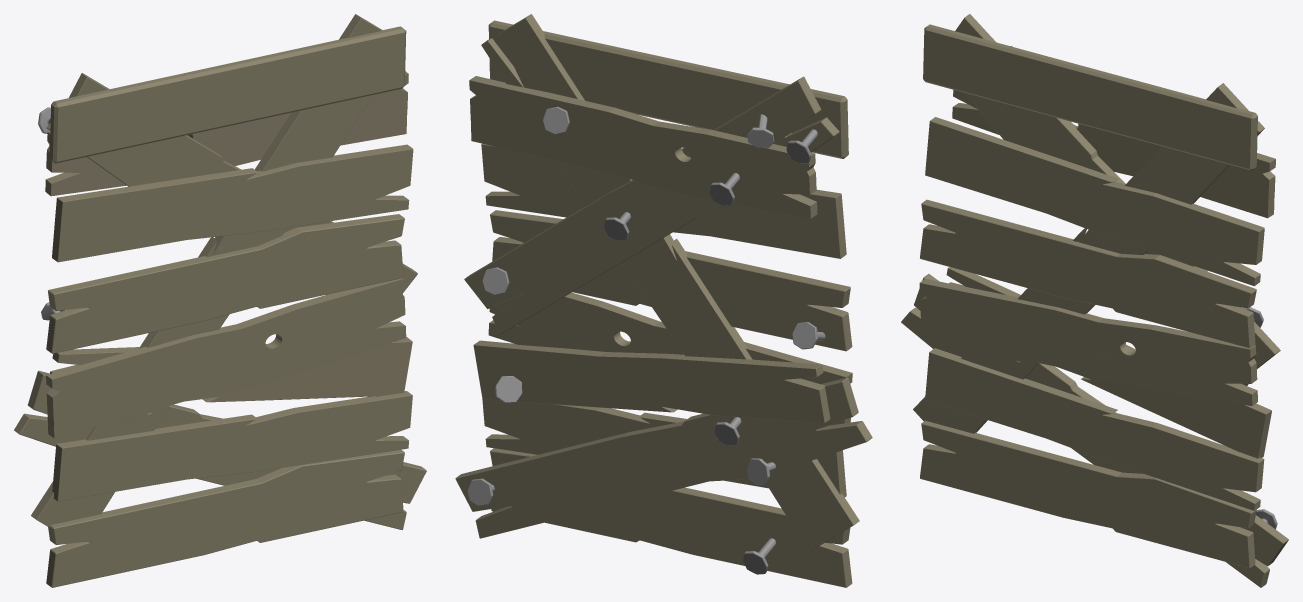
Rendered from PlanksUngrouped.fbx.
3 renders of one model, left to right at view 1: azimuth 30°, elevation 25°; view 2: azimuth 150°, elevation 25°; view 3: azimuth 330°, elevation 25°, orthographic. The views are drawn at different scales.
Parts seen in each view (by area): view 1: polySurface8, polySurface19, polySurface27, polySurface6, polySurface7, polySurface10, polySurface9, polySurface11, polySurface22, polySurface18, polySurface24; view 2: polySurface24, polySurface11, polySurface22, polySurface9, polySurface18, polySurface7, polySurface27, polySurface19, polySurface6, polySurface8, polySurface10, polySurface20 (+11 smaller); view 3: polySurface19, polySurface8, polySurface27, polySurface6, polySurface7, polySurface10, polySurface9, polySurface22, polySurface11, polySurface18, polySurface24.
Boxes of the visible parts, <box> form: polySurface8: <box>46,278,406,438</box>; polySurface19: <box>46,214,404,353</box>; polySurface27: <box>46,449,404,587</box>; polySurface6: <box>52,144,413,262</box>; polySurface7: <box>49,26,406,163</box>; polySurface10: <box>52,391,412,501</box>; polySurface9: <box>31,14,382,527</box>; polySurface11: <box>45,71,408,196</box>; polySurface22: <box>50,337,412,402</box>; polySurface18: <box>46,73,417,294</box>; polySurface24: <box>14,370,426,529</box>; polySurface24: <box>455,377,872,538</box>; polySurface11: <box>469,76,817,218</box>; polySurface22: <box>473,340,830,423</box>; polySurface9: <box>481,14,859,551</box>; polySurface18: <box>464,76,839,334</box>; polySurface7: <box>488,20,848,158</box>; polySurface27: <box>490,448,852,587</box>; polySurface19: <box>490,210,852,351</box>; polySurface6: <box>481,143,846,258</box>; polySurface8: <box>488,292,852,425</box>; polySurface10: <box>482,399,846,497</box>; polySurface20: <box>792,322,825,349</box>; polySurface19: <box>920,199,1256,348</box>; polySurface8: <box>919,278,1257,405</box>; polySurface27: <box>920,420,1256,568</box>; polySurface6: <box>925,117,1264,286</box>; polySurface7: <box>923,24,1257,170</box>; polySurface10: <box>925,348,1264,510</box>; polySurface9: <box>913,83,1264,433</box>; polySurface22: <box>946,267,1271,458</box>; polySurface11: <box>952,90,1275,218</box>; polySurface18: <box>955,14,1280,385</box>; polySurface24: <box>901,274,1288,587</box>.
Bounding box in the file's own units: 2.3 × 2.86 × 0.3768.
